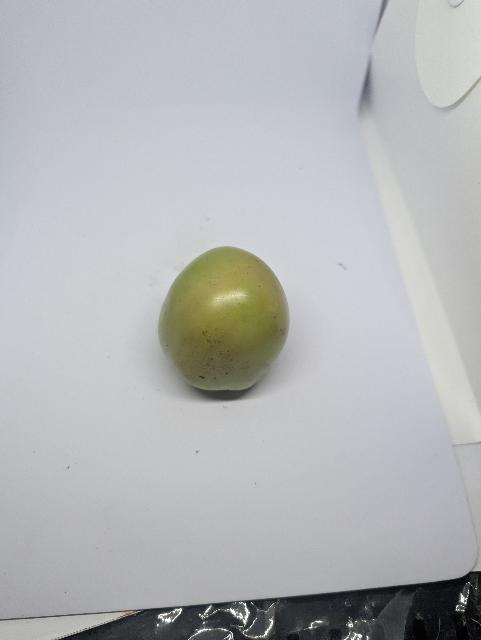green: (156, 245, 292, 395)
